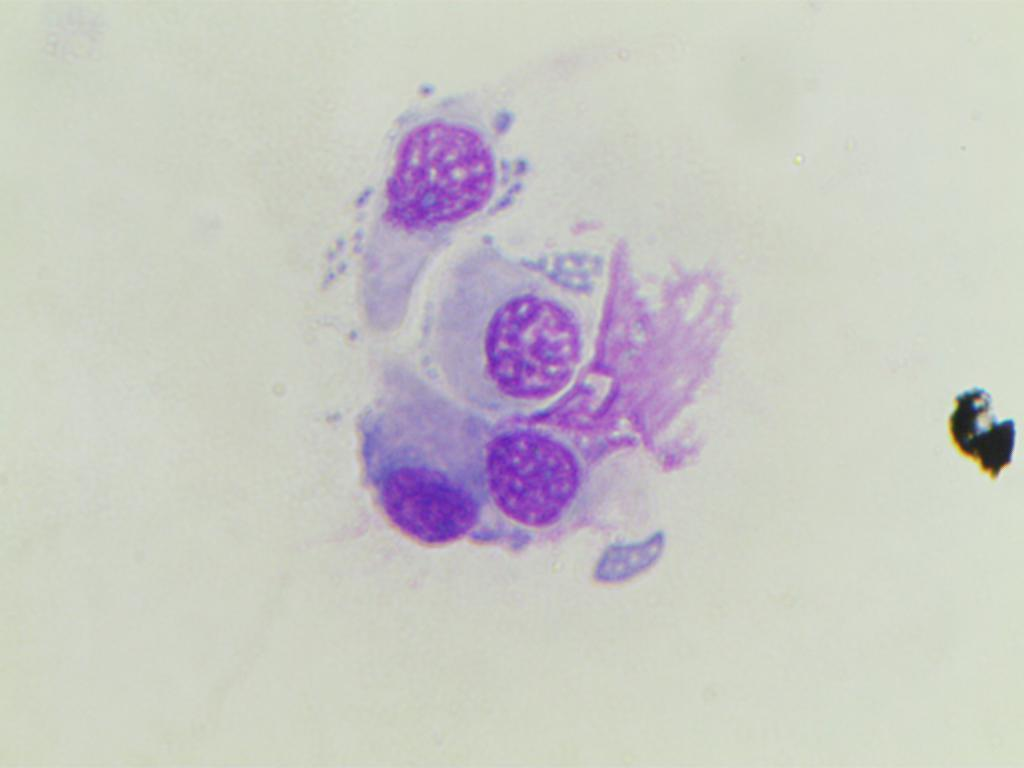artifact: (941, 375, 1019, 486)
epithelial: (342, 96, 497, 291), (425, 245, 589, 400), (478, 411, 589, 530)
goblet_cell: (362, 362, 477, 554)
